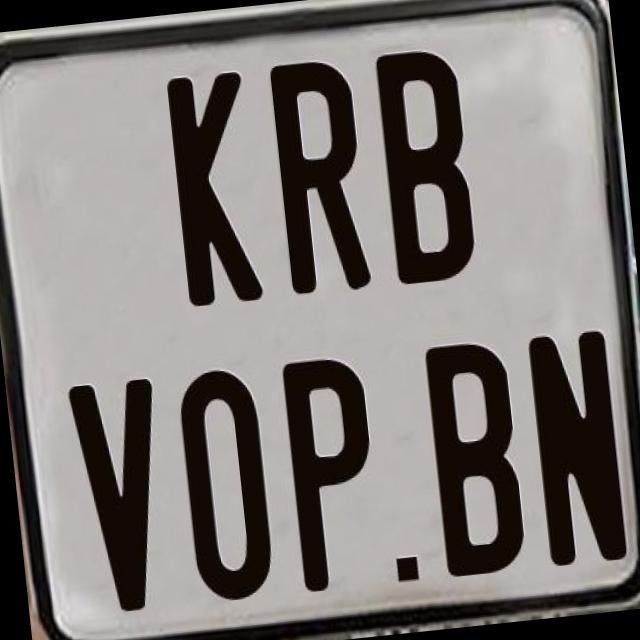0: (176, 365, 286, 613)
B: (372, 46, 484, 292), (423, 338, 527, 576)
K: (163, 66, 263, 306)
N: (526, 327, 634, 569)
P: (280, 352, 385, 594)
R: (267, 53, 373, 300)
V: (65, 378, 178, 620)
